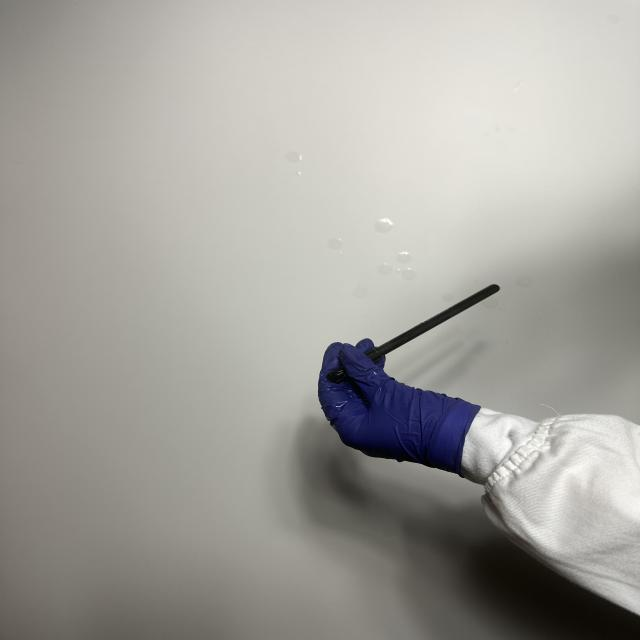gloves_contaminated: (319, 340, 480, 476)
